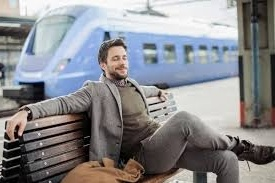not_fallen: (2, 34, 275, 183)
